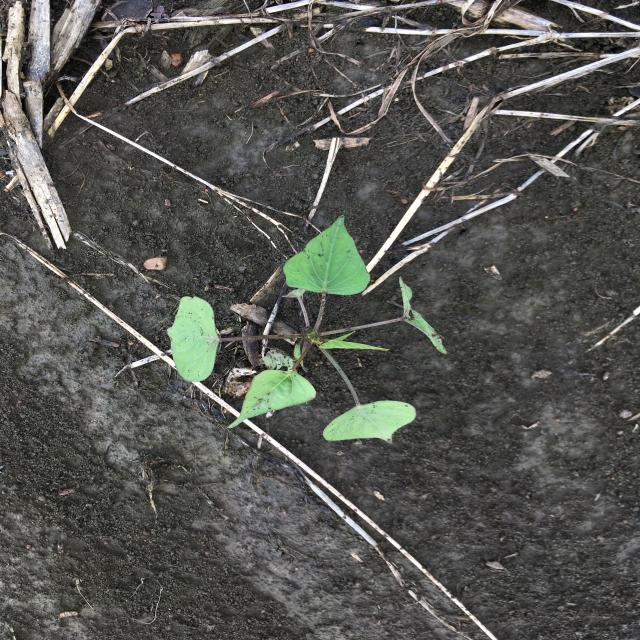MorningGlory: (169, 211, 450, 446)
